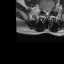CCS_normal: (46, 8, 48, 16)
LFS_stenosis: (50, 7, 52, 12)
LLS_normal: (48, 8, 50, 16)
RFS_normal: (42, 6, 44, 13)
RLS_normal: (44, 8, 46, 15)
